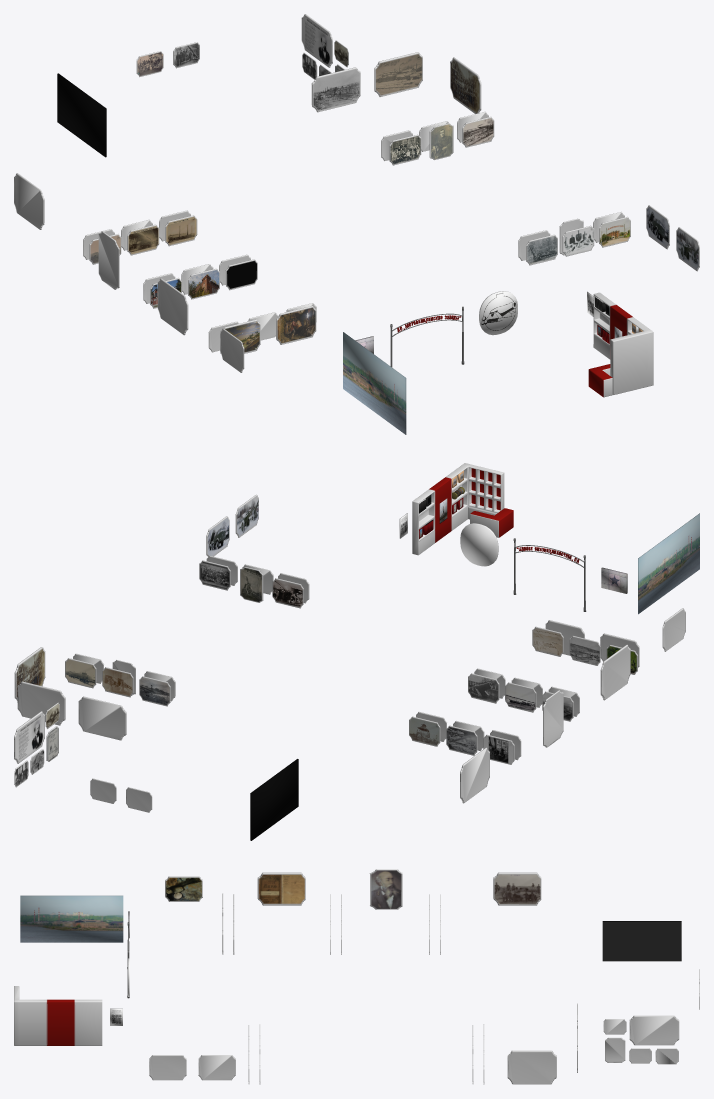
The model's file is ost.glb.
The picture shows the model from 3 angles, top to bottom: view 1: azimuth 30°, elevation 25°; view 2: azimuth 150°, elevation 25°; view 3: azimuth 270°, elevation 25°; orthographic projection. The views are drawn at different scales.
Visible parts, largest first — view 1: дом; view 2: дом; view 3: дом.
Boxes of the visible parts, x1,y1,x2,y2 form: дом: (14,14,699,434); дом: (14,463,699,840); дом: (14,869,699,1084).
Size of the model in its own units: 52.07 by 7.17 by 84.45.
Materials: 1 (1 with a texture image).
